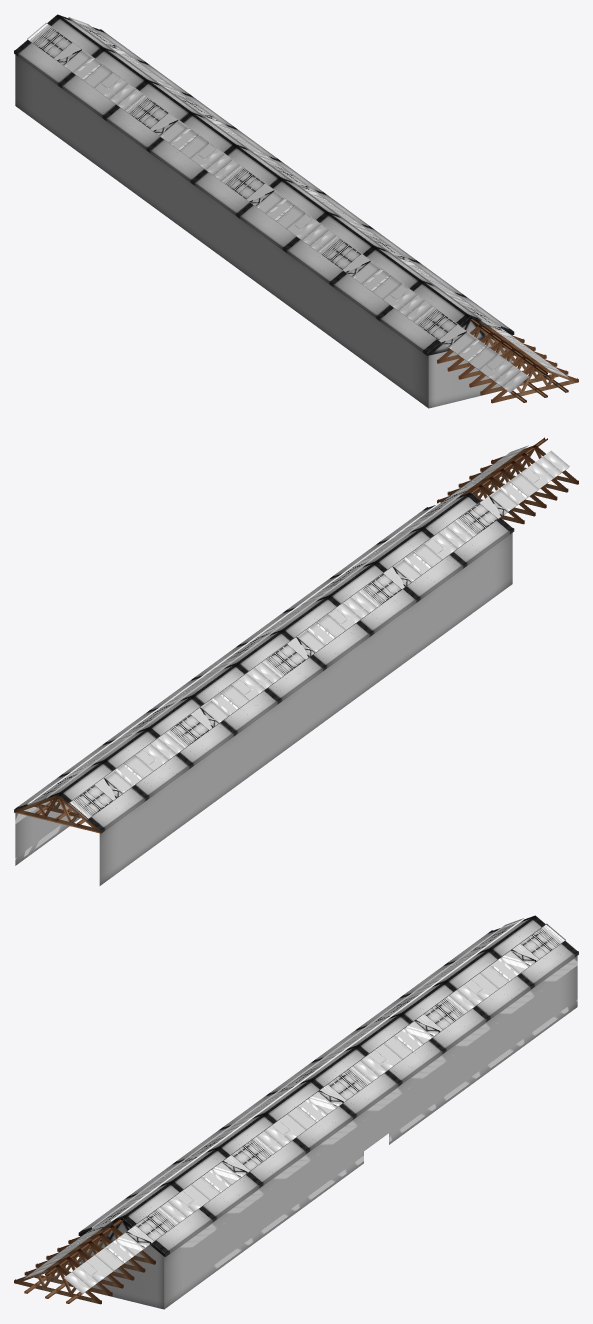
File: hallway.glb
3 views of the same model, one above another, from view 1: azimuth 30°, elevation 25°; view 2: azimuth 150°, elevation 25°; view 3: azimuth 330°, elevation 25° (orthographic).
Visible parts, largest first — view 1: polySurface402_lambert97_0, polySurface406_lambert88_0, pCube126_lambert98_0.001; view 2: polySurface402_lambert97_0, polySurface406_lambert88_0, pCube126_lambert98_0.001; view 3: polySurface402_lambert97_0, polySurface406_lambert88_0, pCube126_lambert98_0.001.
Part boxes in pixels (x1,y1,x2,y2): polySurface402_lambert97_0: [14, 14, 514, 408]; polySurface406_lambert88_0: [29, 21, 568, 392]; pCube126_lambert98_0.001: [90, 55, 578, 403]; polySurface402_lambert97_0: [14, 492, 514, 885]; polySurface406_lambert88_0: [32, 445, 569, 818]; pCube126_lambert98_0.001: [14, 437, 578, 833]; polySurface402_lambert97_0: [78, 915, 578, 1309]; polySurface406_lambert88_0: [24, 922, 563, 1293]; pCube126_lambert98_0.001: [14, 956, 502, 1304].
Size of the model in its own units: 6.25 by 5.59 by 60.82.
Materials: 2 (2 with a texture image).
